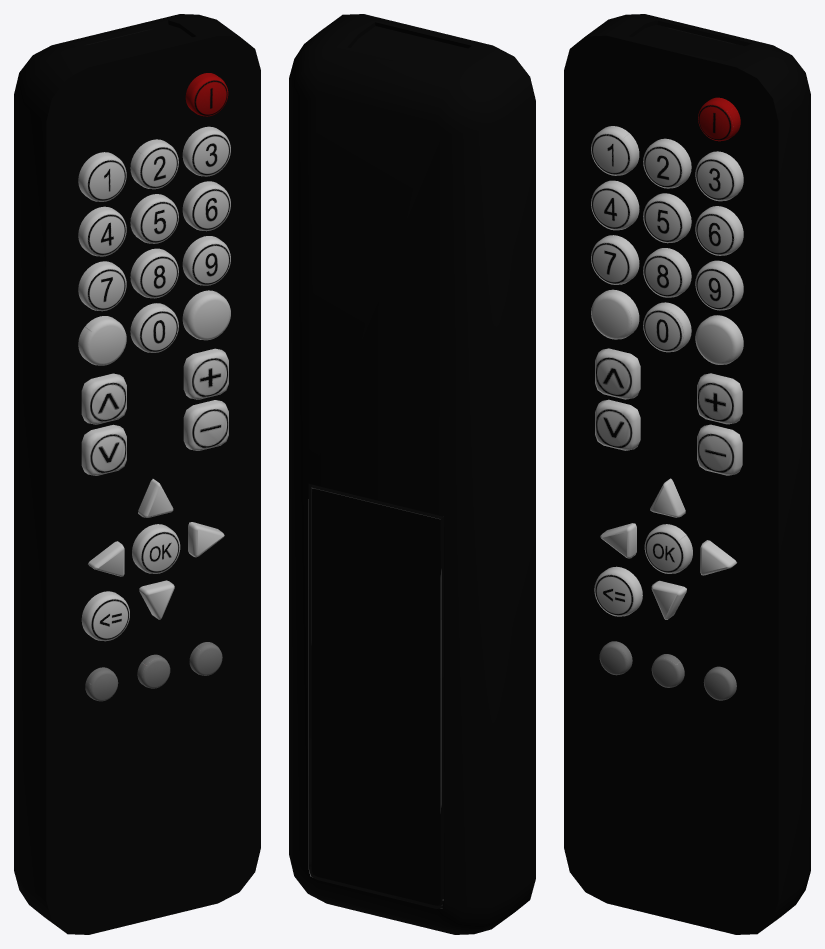
File: TVRemote.fbx
3 renders of one model, left to right at view 1: azimuth 30°, elevation 25°; view 2: azimuth 150°, elevation 25°; view 3: azimuth 330°, elevation 25°, orthographic.
Parts seen in each view (by area): view 1: Remote; view 2: Remote; view 3: Remote.
Boxes of the visible parts, <box> form: Remote: <box>14,14,260,934</box>; Remote: <box>289,14,535,934</box>; Remote: <box>564,14,810,934</box>.
Size of the model in its own units: 4.14 by 15.99 by 2.
